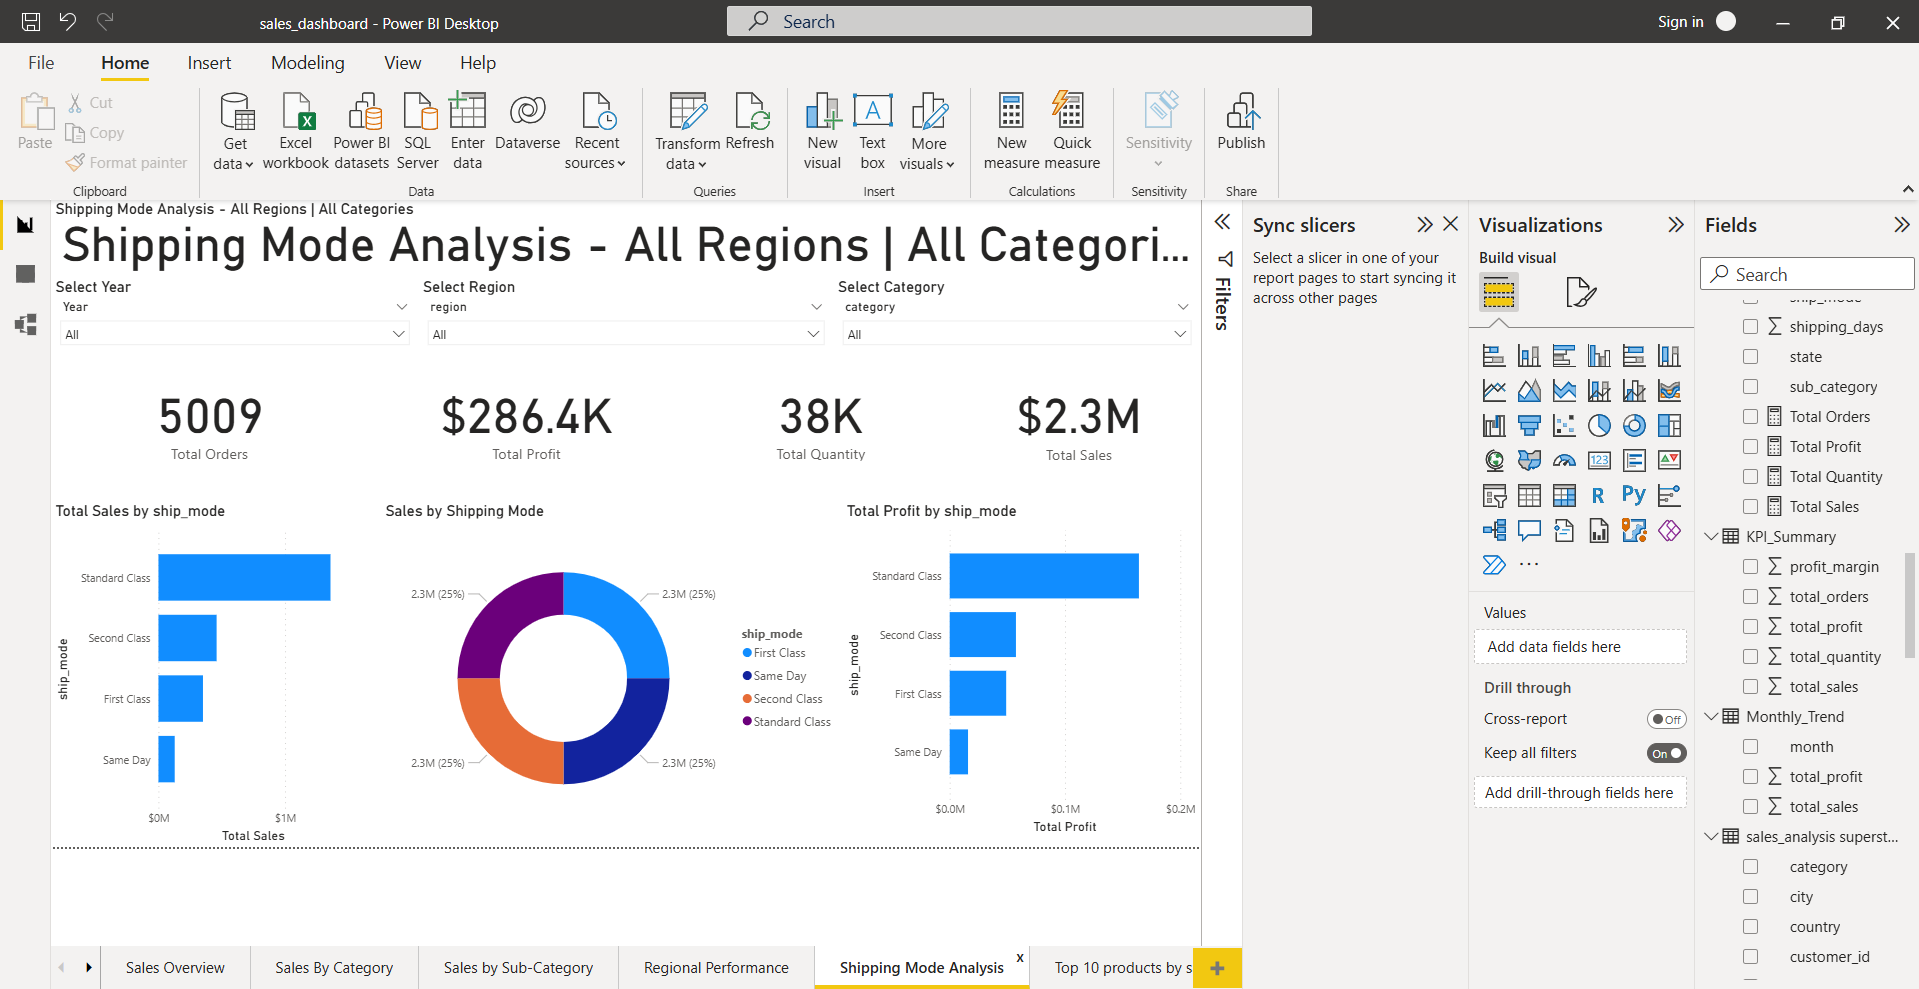

Layout of this report page (visuals, bound fields, positions):
{"tool":"powerbi","page":{"name":"Shipping Mode Analysis","canvas":[1280,720],"ordinal":4},"visuals":[{"type":"donutChart","title":"Sales by Shipping Mode","fields":{"Category":["sales_analysis superstore_clean.ship_mode"],"Y":["Sum(Subcategory_Performance.total_sales)"]},"box":[366.7,334.9,514.6,375.3],"z":0},{"type":"slicer","title":"Select Year","fields":{"Values":["Date_Dim.Year"]},"box":[0,86.8,409.5,106.3],"z":1000},{"type":"slicer","title":"Select Category","fields":{"Values":["Fact_sales.category"]},"box":[871.6,86.8,408.3,106.3],"z":2000},{"type":"slicer","title":"Select Region","fields":{"Values":["Fact_sales.region"]},"box":[409.5,86.8,462.1,106.3],"z":3000},{"type":"card","fields":{"Values":["Fact_sales.Total Orders"]},"box":[0,193.1,353.3,101.5],"z":4000},{"type":"card","fields":{"Values":["Fact_sales.Total Profit"]},"box":[353.3,193.1,352.1,101.5],"z":5000},{"type":"card","fields":{"Values":["Fact_sales.Total Quantity"]},"box":[705.3,193.1,303.2,101.5],"z":6000},{"type":"card","fields":{"Values":["Fact_sales.Total Sales"]},"box":[1008.5,193.1,271.4,102.7],"z":7000},{"type":"clusteredBarChart","fields":{"Category":["Fact_sales.ship_mode"],"Y":["Fact_sales.Total Sales"]},"box":[0,334.9,353.3,385.1],"z":8000},{"type":"barChart","fields":{"Category":["Fact_sales.ship_mode"],"Y":["Fact_sales.Total Profit"]},"box":[881.4,334.9,398.5,375.3],"z":9000},{"type":"card","fields":{"Values":["Category_Performance.Shipping Title"]},"box":[0,0,1279.9,86.8],"z":10000}]}

Visuals, with their boxes on the page's 1280x720 design canvas (x1, y1, x2, y2). These are canvas units, not pixel positions in the 1919x989 screenshot, which may show the page scaled, cropped or inside an application window:
"Sales by Shipping Mode" donutChart: region(367, 335, 881, 710)
"Select Year" slicer: region(0, 87, 410, 193)
"Select Category" slicer: region(872, 87, 1280, 193)
"Select Region" slicer: region(410, 87, 872, 193)
card - Fact_sales.Total Orders: region(0, 193, 353, 295)
card - Fact_sales.Total Profit: region(353, 193, 705, 295)
card - Fact_sales.Total Quantity: region(705, 193, 1008, 295)
card - Fact_sales.Total Sales: region(1008, 193, 1280, 296)
clusteredBarChart - Fact_sales.ship_mode x Fact_sales.Total Sales: region(0, 335, 353, 720)
barChart - Fact_sales.ship_mode x Fact_sales.Total Profit: region(881, 335, 1280, 710)
card - Category_Performance.Shipping Title: region(0, 0, 1280, 87)
